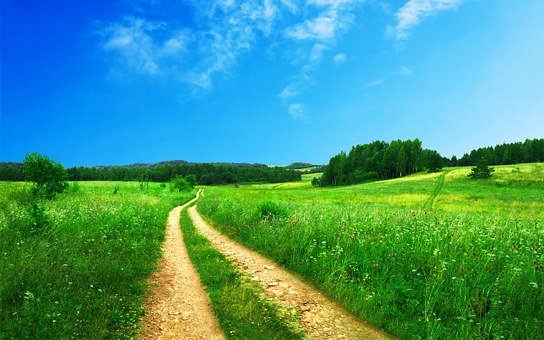field: (6, 179, 543, 339)
sky: (3, 1, 544, 154)
tree: (319, 128, 451, 199), (18, 143, 75, 209)
